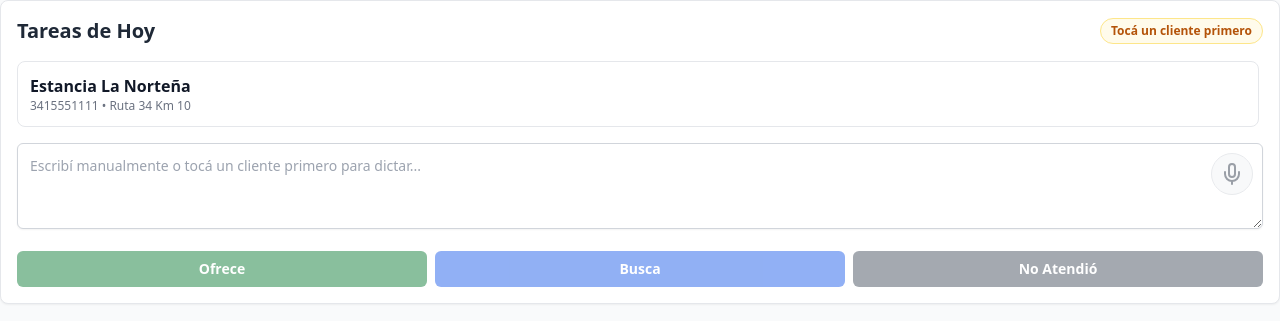
Test: MobileCopilot › stops recording and resets isRecording when executing an action while recording
// Select client
Step 1. Click the text "Estancia La Norteña" → (110, 86), box [30, 75, 191, 97]
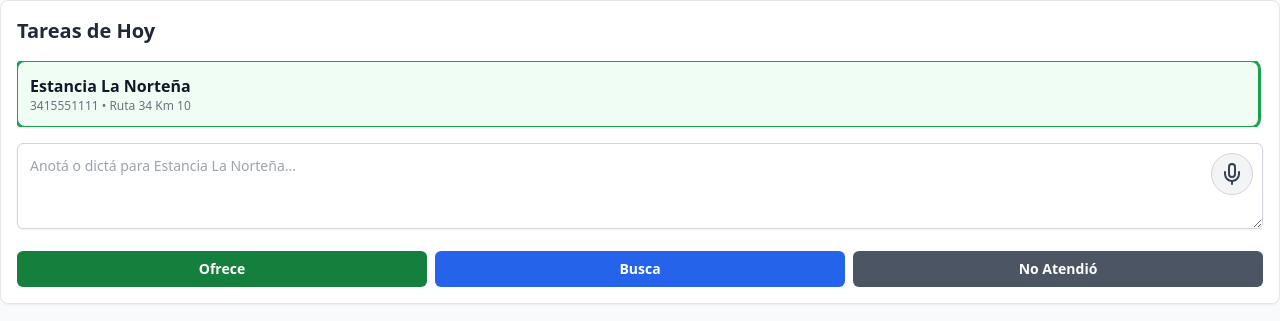
// Start recording
Step 2. Click the button named "empezar dictado" → (1232, 174), box [1211, 153, 1253, 195]
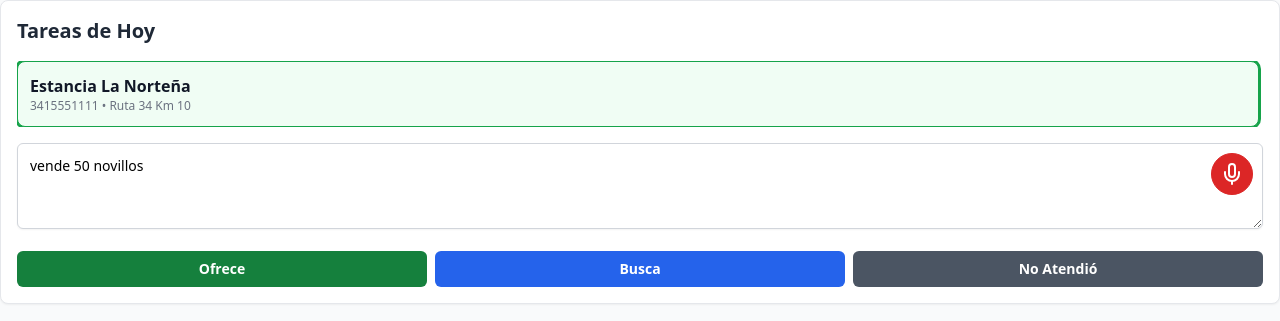
Expected: the button named "detener dictado" is shown, [1211, 153, 1253, 195]
// Click "Ofrece"
Step 3. Click the button "Ofrece" → (222, 269), box [17, 251, 427, 287]
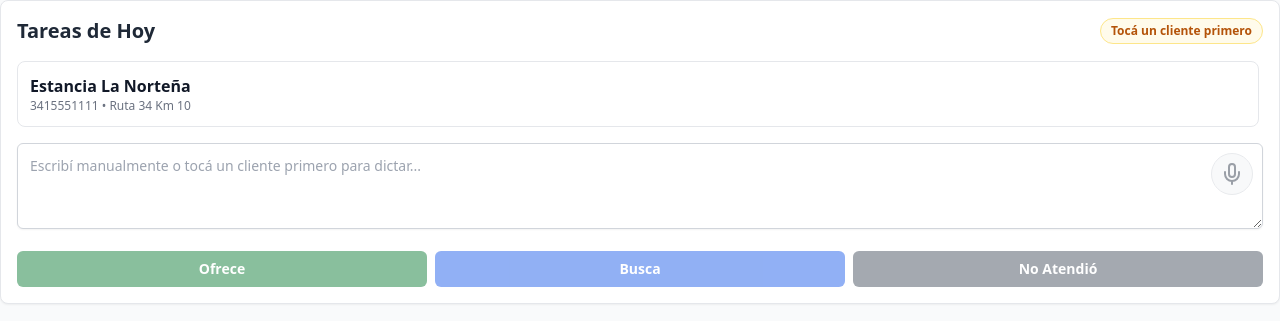
Expected: the button named "empezar dictado" is shown, [1211, 153, 1253, 195]
